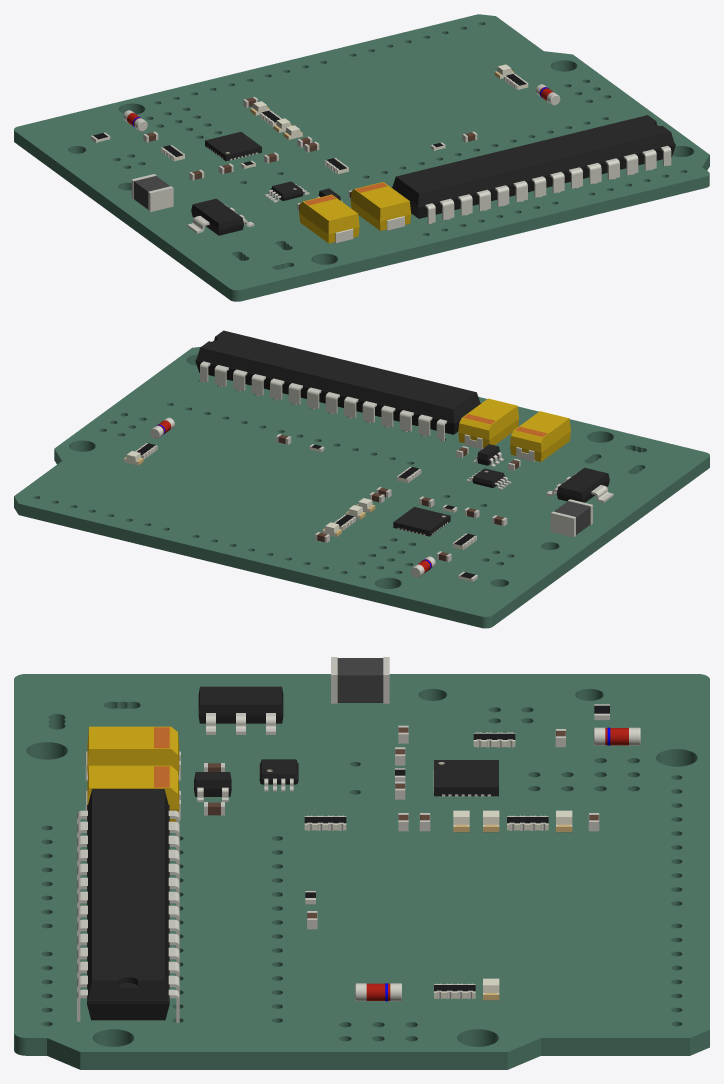
The model's file is uno-export.glb.
3 views of the same model, one above another, from view 1: azimuth 30°, elevation 25°; view 2: azimuth 150°, elevation 25°; view 3: azimuth 270°, elevation 25° (orthographic). The views are drawn at different scales.
Visible parts, largest first — view 1: =>[0:1:1:15], ZU4, PC2, PC1, U1, F1, U3, U5; view 2: =>[0:1:1:15], ZU4, PC2, PC1, U1, F1, U3, U5; view 3: =>[0:1:1:15], ZU4, PC2, U1, F1, PC1, U3, U5, U2, D3, D2, RN1 (+3 smaller).
Boxes of the visible parts, x1=… form: =>[0:1:1:15]: x1=14, y1=14, x2=709, y2=301; ZU4: x1=391, y1=115, x2=675, y2=224; PC2: x1=299, y1=194, x2=359, y2=243; PC1: x1=350, y1=182, x2=411, y2=230; U1: x1=187, y1=198, x2=254, y2=235; F1: x1=131, y1=174, x2=173, y2=211; U3: x1=205, y1=132, x2=261, y2=161; U5: x1=264, y1=181, x2=309, y2=202; =>[0:1:1:15]: x1=14, y1=347, x2=709, y2=628; ZU4: x1=195, y1=330, x2=480, y2=441; PC2: x1=510, y1=411, x2=570, y2=461; PC1: x1=458, y1=398, x2=518, y2=449; U1: x1=546, y1=467, x2=613, y2=502; F1: x1=550, y1=499, x2=592, y2=537; U3: x1=393, y1=507, x2=450, y2=536; U5: x1=466, y1=468, x2=511, y2=489; =>[0:1:1:15]: x1=14, y1=674, x2=709, y2=1069; ZU4: x1=77, y1=789, x2=179, y2=1022; PC2: x1=85, y1=726, x2=180, y2=780; U1: x1=198, y1=686, x2=283, y2=734; F1: x1=331, y1=657, x2=389, y2=703; PC1: x1=85, y1=765, x2=180, y2=821; U3: x1=433, y1=760, x2=498, y2=796; U5: x1=259, y1=759, x2=298, y2=791; U2: x1=194, y1=772, x2=231, y2=801; D3: x1=593, y1=727, x2=640, y2=745; D2: x1=355, y1=983, x2=401, y2=1001; RN1: x1=304, y1=815, x2=346, y2=831.
Size of the model in its own units: 0.0686 by 0.00698 by 0.0533.
